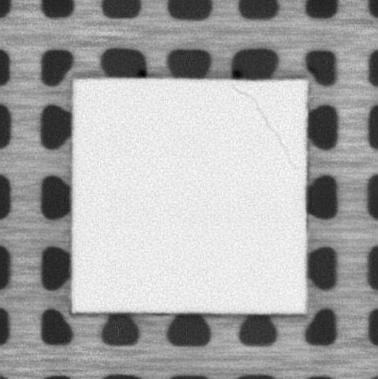DIE_CRACK: (230, 84, 298, 171)
